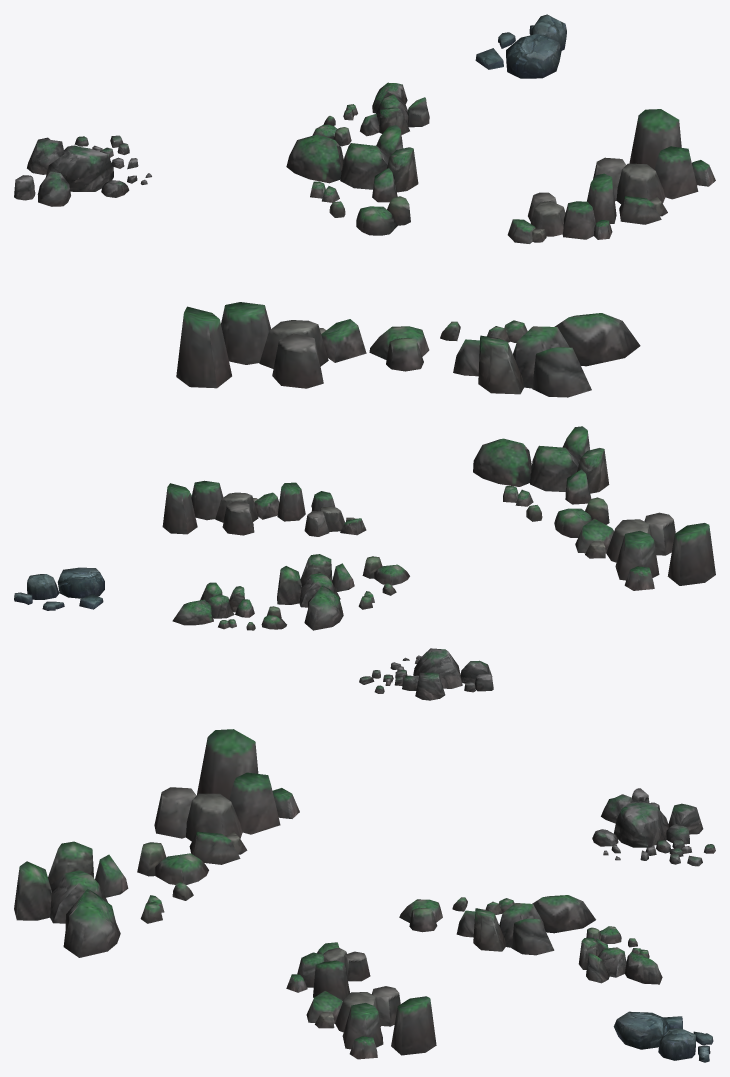
The model's file is Area_11_33.fbx.
3 renders of one model, top to bottom at view 1: azimuth 30°, elevation 25°; view 2: azimuth 150°, elevation 25°; view 3: azimuth 270°, elevation 25°, orthographic. The views are drawn at different scales.
Parts seen in each view (by area): view 1: Area_11_33; view 2: Area_11_33; view 3: Area_11_33.
Boxes of the visible parts, <box> form: Area_11_33: <box>14,14,715,397</box>; Area_11_33: <box>14,426,715,700</box>; Area_11_33: <box>14,729,715,1062</box>.
Bounding box in the file's own units: 4530 × 442 × 4707.
